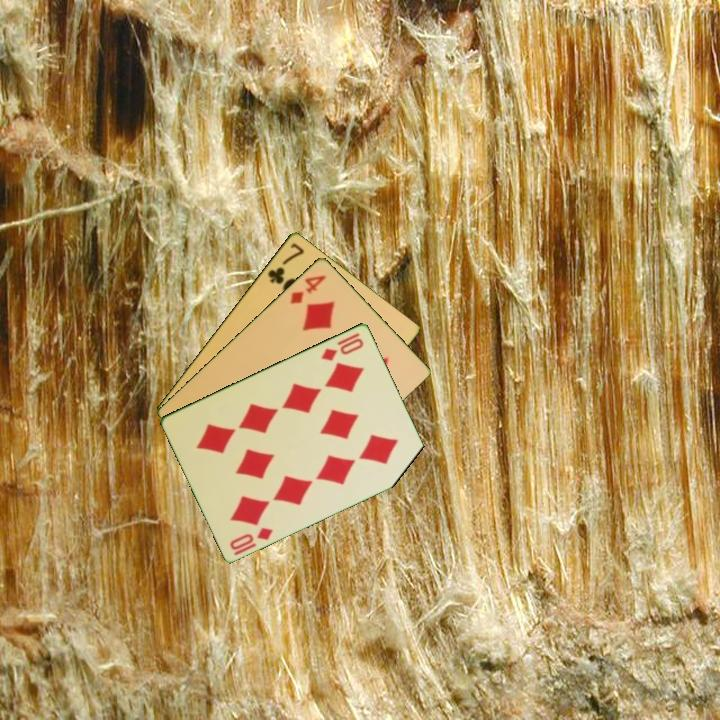10d: (226, 523, 276, 558), (318, 334, 367, 364)
4d: (286, 271, 329, 307)
7c: (264, 239, 307, 287)
